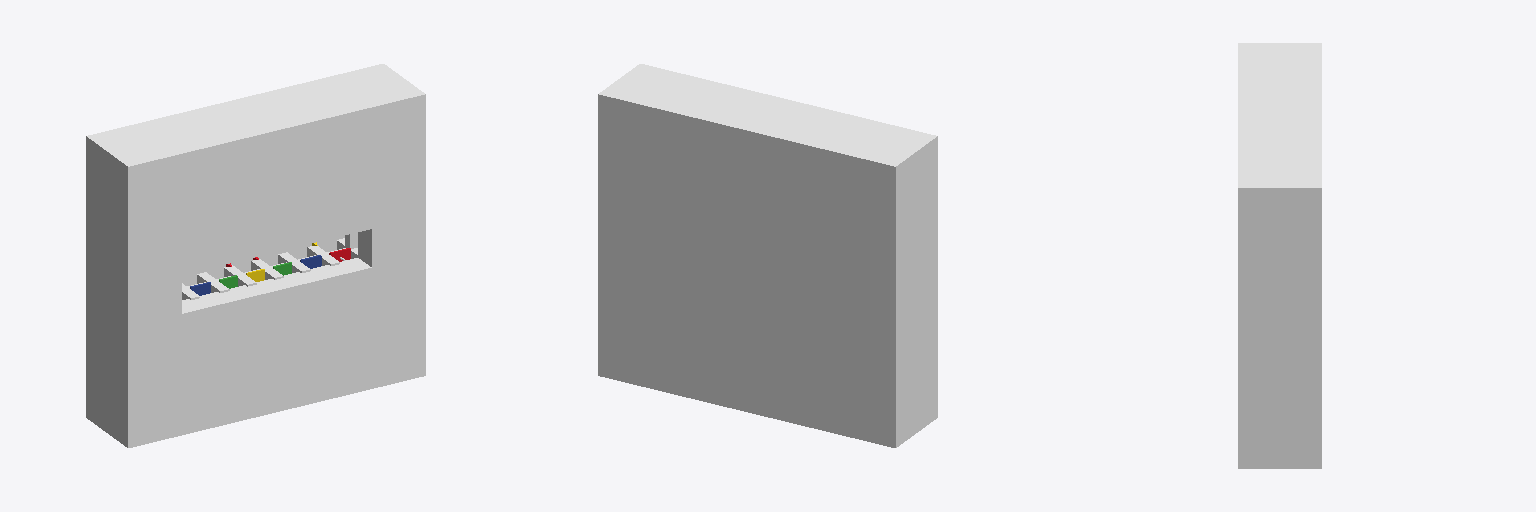
3 renders of one model, left to right at view 1: azimuth 30°, elevation 25°; view 2: azimuth 150°, elevation 25°; view 3: azimuth 270°, elevation 25°, orthographic.
Parts seen in each view (by area): view 1: obj_0; view 2: obj_0; view 3: obj_0.
Boxes of the visible parts, <box> form: obj_0: <box>86,64,425,447</box>; obj_0: <box>598,64,937,447</box>; obj_0: <box>1238,43,1321,468</box>.
Size of the model in its own units: 584 by 528 by 143.